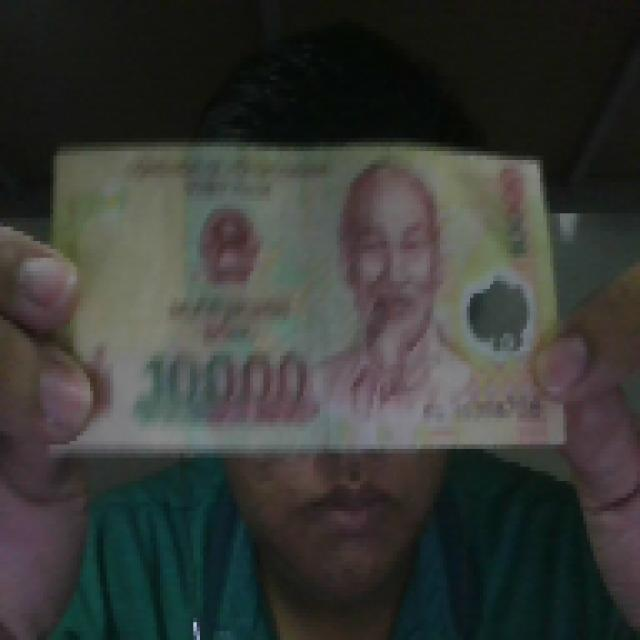10 000 VND: (44, 133, 574, 458)
